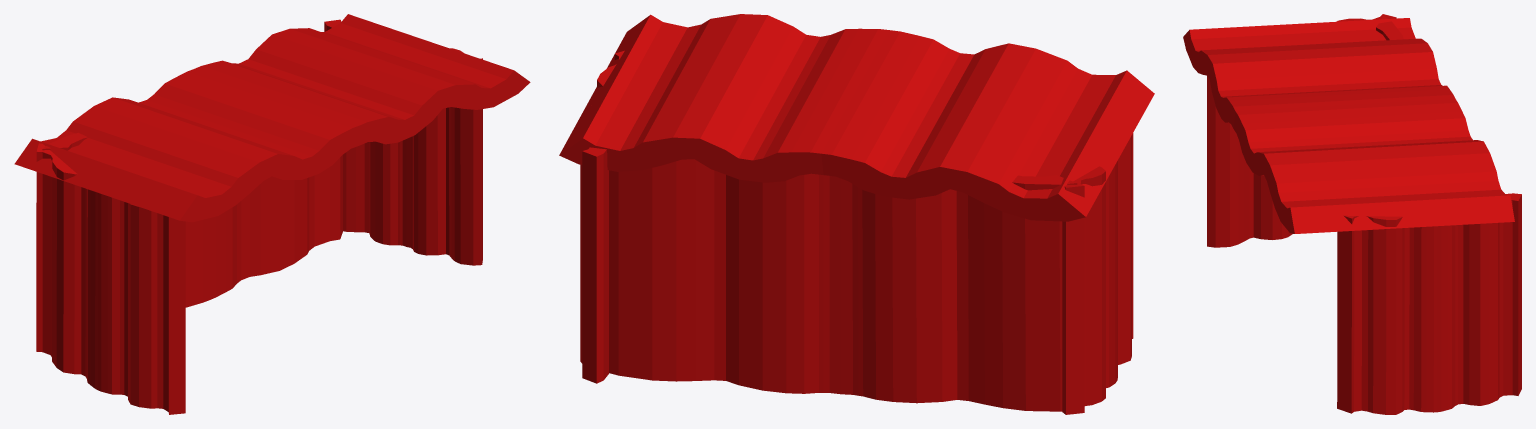
The model's file is stage_curtain_red.obj.
The picture shows the model from 3 angles, left to right: view 1: azimuth 30°, elevation 25°; view 2: azimuth 150°, elevation 25°; view 3: azimuth 270°, elevation 25°; orthographic projection. The views are drawn at different scales.
Parts seen in each view (by area): view 1: stage_curtain; view 2: stage_curtain; view 3: stage_curtain.
Part boxes in pixels (bbox=[...]): stage_curtain: bbox=[14, 14, 530, 414]; stage_curtain: bbox=[559, 14, 1154, 414]; stage_curtain: bbox=[1183, 14, 1521, 414].
Bounding box in the file's own units: 0.2251 × 0.1093 × 0.1471.
